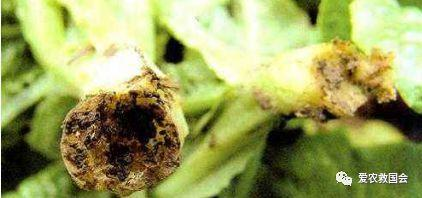grub: (76, 40, 151, 89)
